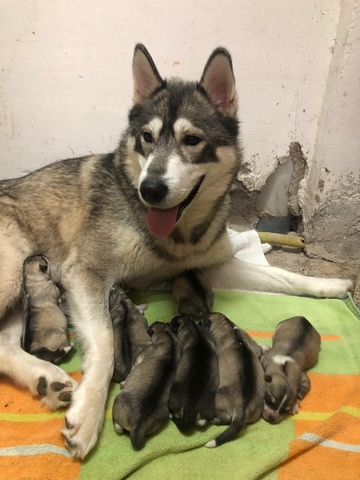husky: (22, 28, 273, 394)
